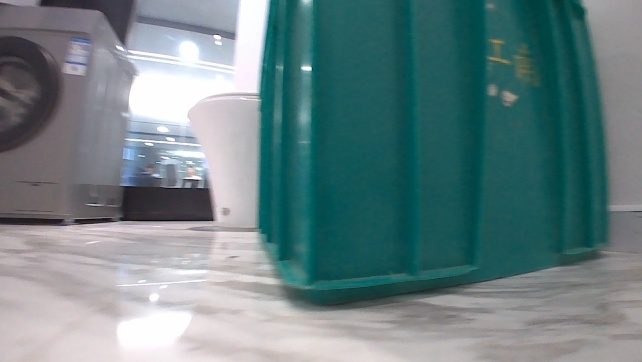toilet: (185, 86, 263, 229)
washing_machine: (0, 3, 140, 224)
